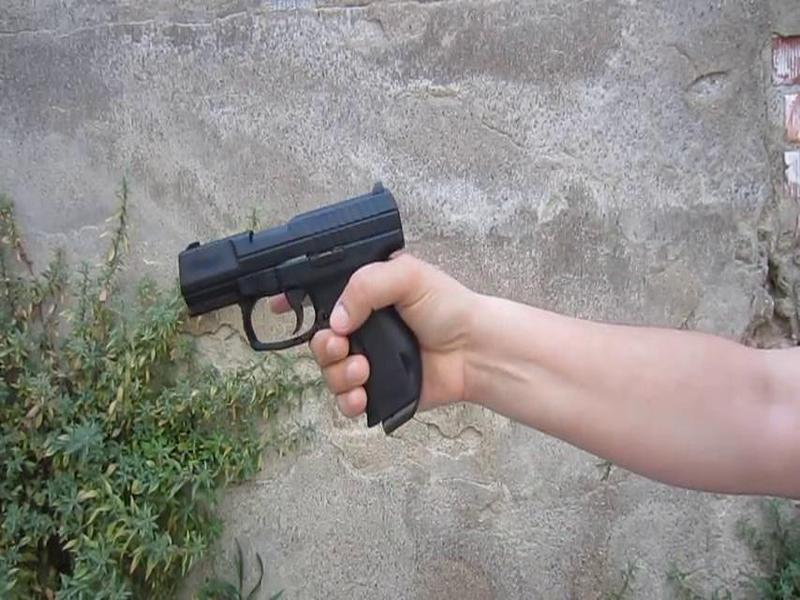Pistola: (166, 171, 430, 431)
